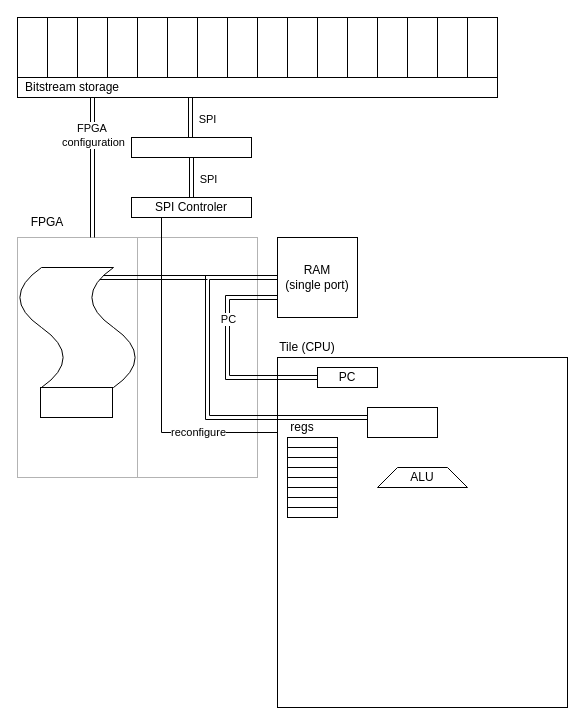
Some shapes in this 585 by 725 pixel diagram are drawn without their labels. The shapes that lost their labels are listed below. From the top down, each one's box as (x1, y1, x2, y2) in pixels, then its label:
(130, 136, 252, 158): SPI Peripheral
(40, 386, 112, 418): custom instructions
(366, 406, 438, 438): instruction decode
